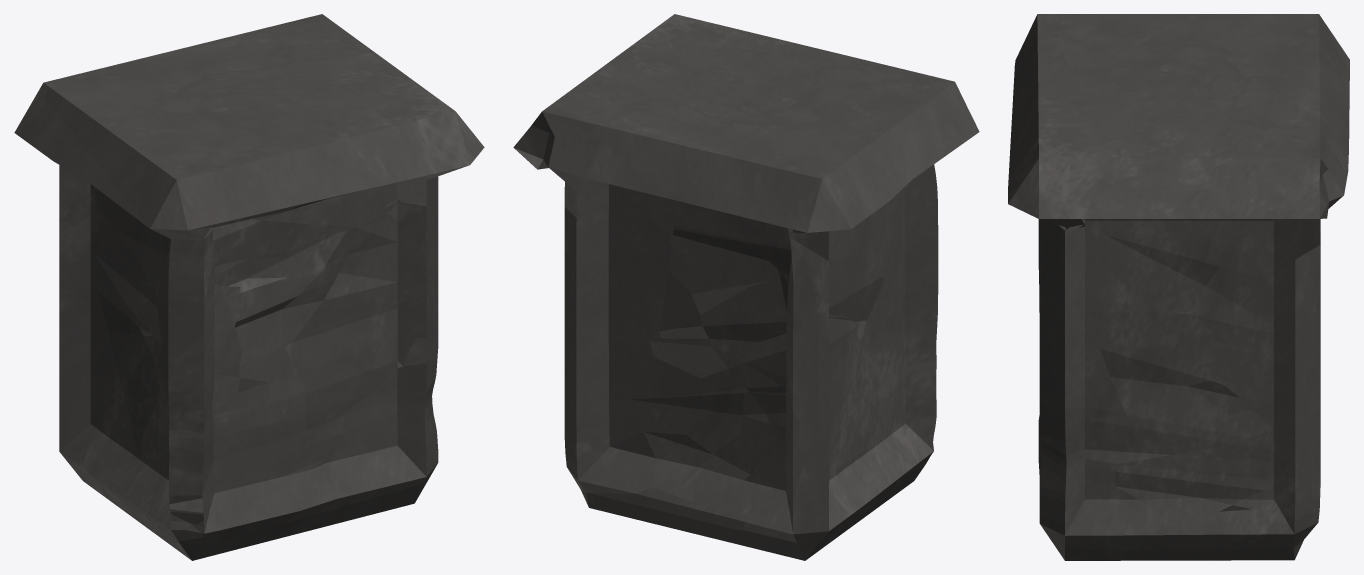
The model's file is Maybe fixed pedastal.fbx.
3 views of the same model, side by side, from view 1: azimuth 30°, elevation 25°; view 2: azimuth 150°, elevation 25°; view 3: azimuth 270°, elevation 25° (orthographic). The views are drawn at different scales.
Visible parts, largest first — view 1: Cube.1648; view 2: Cube.1648; view 3: Cube.1648.
Boxes of the visible parts, bbox=[...] form: Cube.1648: bbox=[14, 14, 484, 560]; Cube.1648: bbox=[513, 14, 979, 560]; Cube.1648: bbox=[1008, 14, 1349, 560].
Size of the model in its own units: 380 by 427 by 315.
